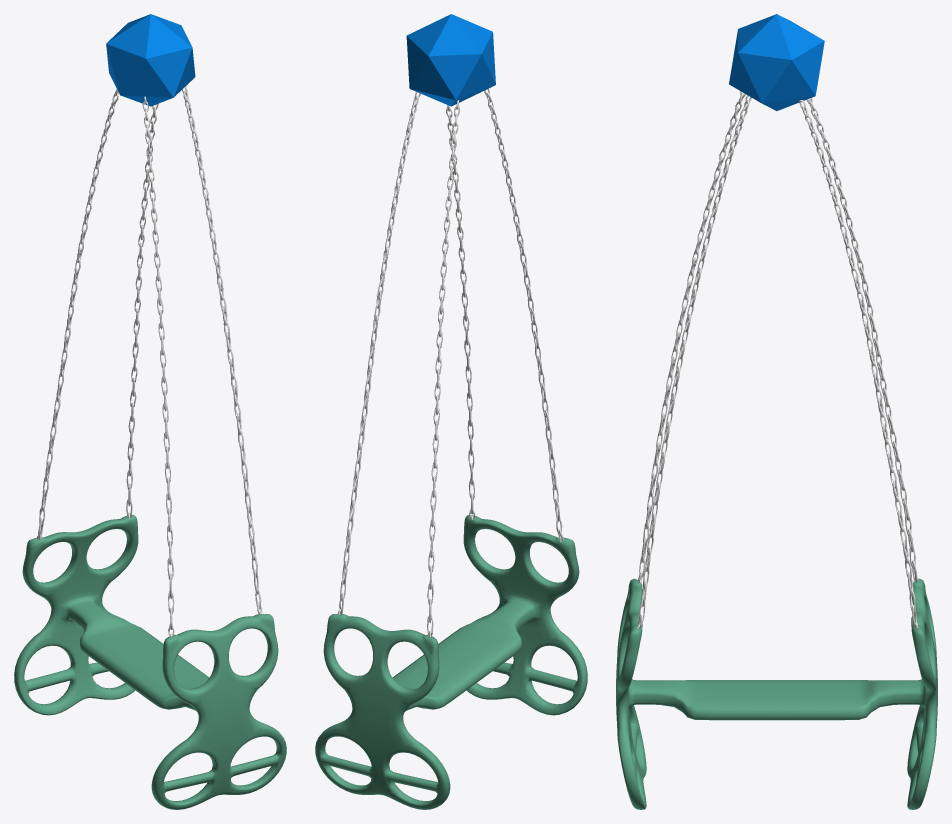
The model's file is Horse glider.glb.
The picture shows the model from 3 angles, left to right: view 1: azimuth 30°, elevation 25°; view 2: azimuth 150°, elevation 25°; view 3: azimuth 270°, elevation 25°; orthographic projection. The views are drawn at different scales.
Parts seen in each view (by area): view 1: Circle.004, Torus.005, Joint.017; view 2: Circle.004, Torus.005, Joint.017; view 3: Circle.004, Torus.005, Joint.017.
Part boxes in pixels (box(x1,y1,x2,y2)): Circle.004: box(14, 515, 286, 809); Torus.005: box(37, 86, 262, 636); Joint.017: box(106, 14, 195, 106); Circle.004: box(315, 515, 587, 809); Torus.005: box(337, 88, 563, 636); Joint.017: box(406, 14, 495, 106); Circle.004: box(616, 578, 937, 809); Torus.005: box(637, 91, 918, 629); Joint.017: box(729, 14, 824, 110).
Size of the model in its own units: 0.4543 by 2.43 by 0.9142.
